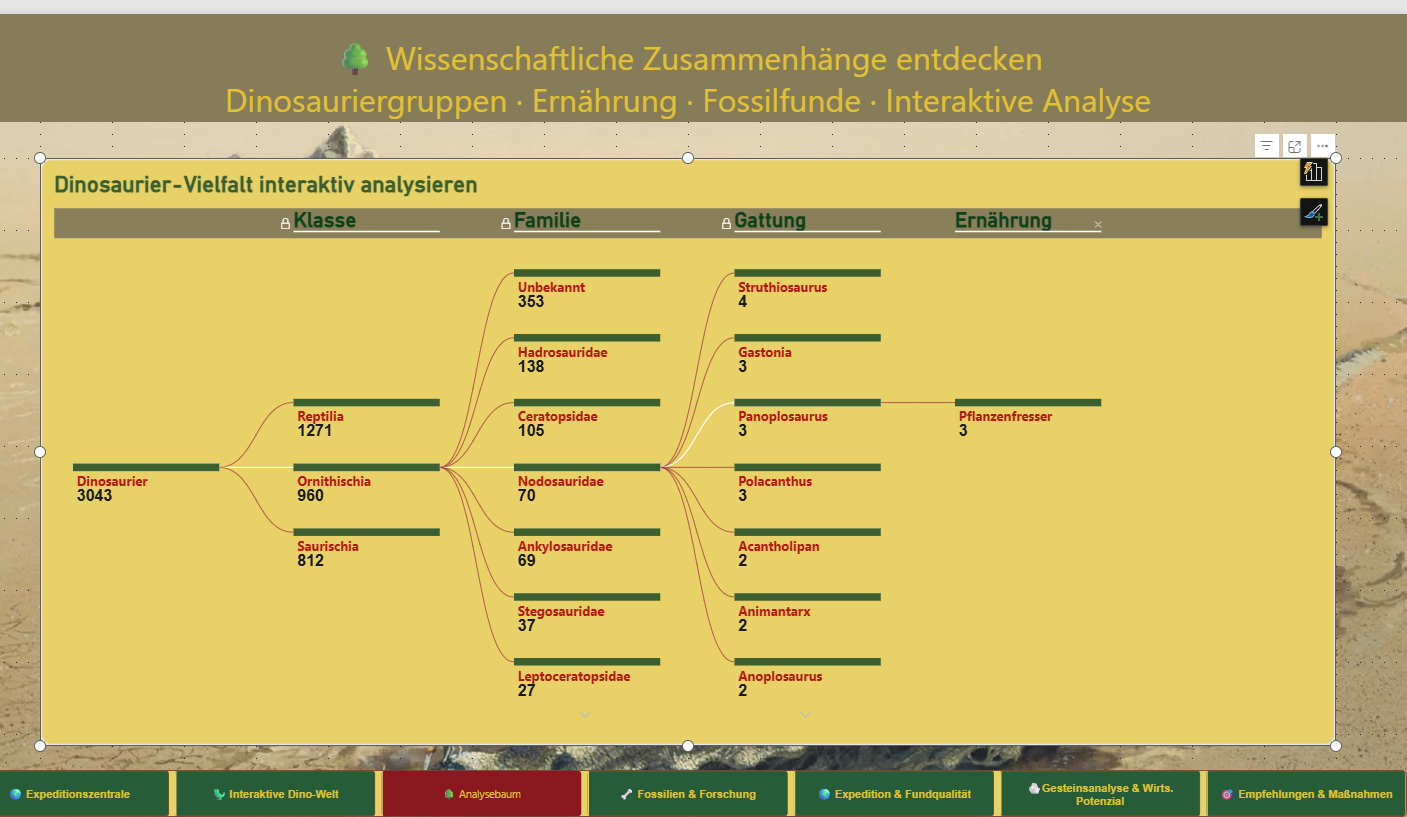

The dashboard page shown, as its layout file describes it:
{"tool":"powerbi","page":{"name":"🌳 Analysebaum","canvas":[1920,1080],"ordinal":2},"visuals":[{"type":"decompositionTreeVisual","title":"Dinosaurier-Vielfalt interaktiv analysieren","fields":{"Analyze":["_Measures.Dinosaurier gesamt"],"ExplainBy":["Dinosaurier.Klasse","Dinosaurier.Familie","Dinosaurier.Gattung","Dinosaurier.Ernaehrung_DE"]},"box":[96,192,1728,784],"z":0},{"type":"textbox","box":[0,0,1920,144],"z":1000},{"type":"pageNavigator","box":[0,1008,1920,64],"z":2000}]}

Visuals, with their boxes on the page's 1920x1080 design canvas (x1, y1, x2, y2). These are canvas units, not pixel positions in the 1407x817 screenshot, which may show the page scaled, cropped or inside an application window:
"Dinosaurier-Vielfalt interaktiv analysieren" decompositionTreeVisual: (x1=96, y1=192, x2=1824, y2=976)
textbox: (x1=0, y1=0, x2=1920, y2=144)
pageNavigator: (x1=0, y1=1008, x2=1920, y2=1072)
